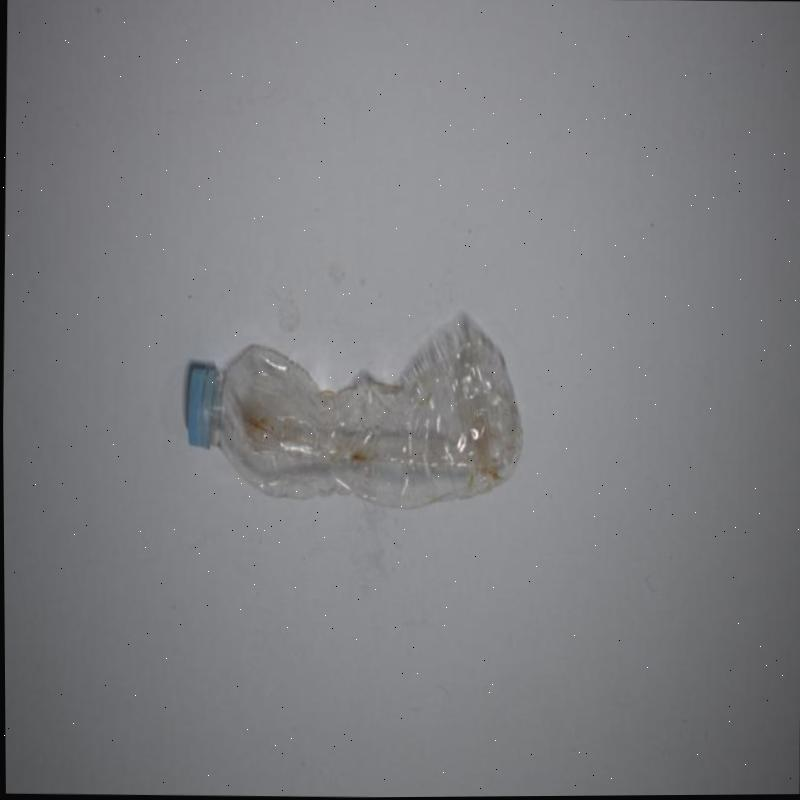botella: (179, 310, 523, 528)
